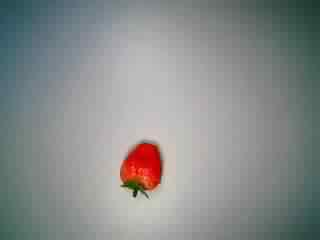strawberry: (106, 132, 166, 200)
